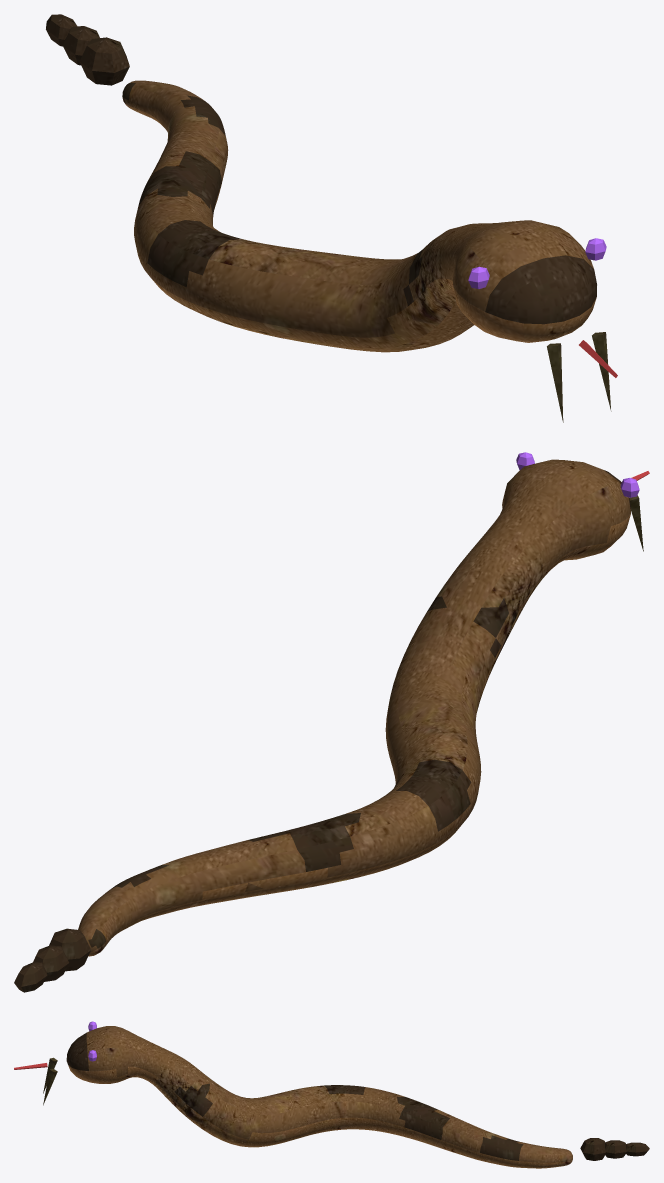
File: mon_serp_04.glb
3 views of the same model, one above another, from view 1: azimuth 30°, elevation 25°; view 2: azimuth 150°, elevation 25°; view 3: azimuth 270°, elevation 25° (orthographic). The views are drawn at different scales.
Visible parts, largest first — view 1: mon_serp_04; view 2: mon_serp_04; view 3: mon_serp_04.
Part boxes in pixels (x1=…): mon_serp_04: x1=46, y1=14, x2=617, y2=422; mon_serp_04: x1=14, y1=452, x2=649, y2=992; mon_serp_04: x1=14, y1=1021, x2=649, y2=1168.
Bounding box in the file's own units: 0.3718 × 0.3729 × 1.84.
6 materials, 4 textured.
